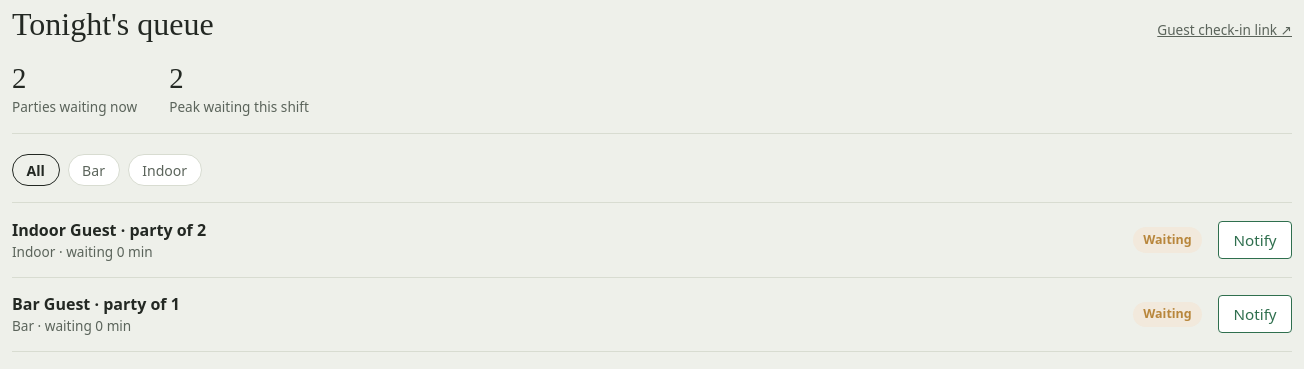
HostBoardPage › filters the board by seating category
expect the text "Indoor Guest · party of 2" is shown: met, box [12,219,206,241]
expect the text "Bar Guest · party of 1" is shown: met, box [12,293,180,315]
Click the tab "Bar". click: point(94, 170)
box: [68,154,120,186]
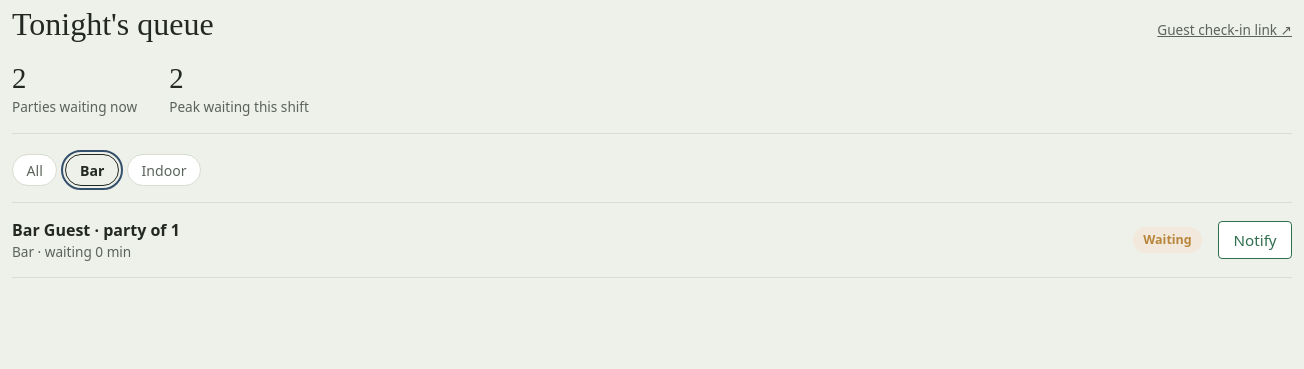
expect the text "Bar Guest · party of 1" is shown: met, box [12,219,180,241]
expect the text "Indoor Guest" is gone: met
